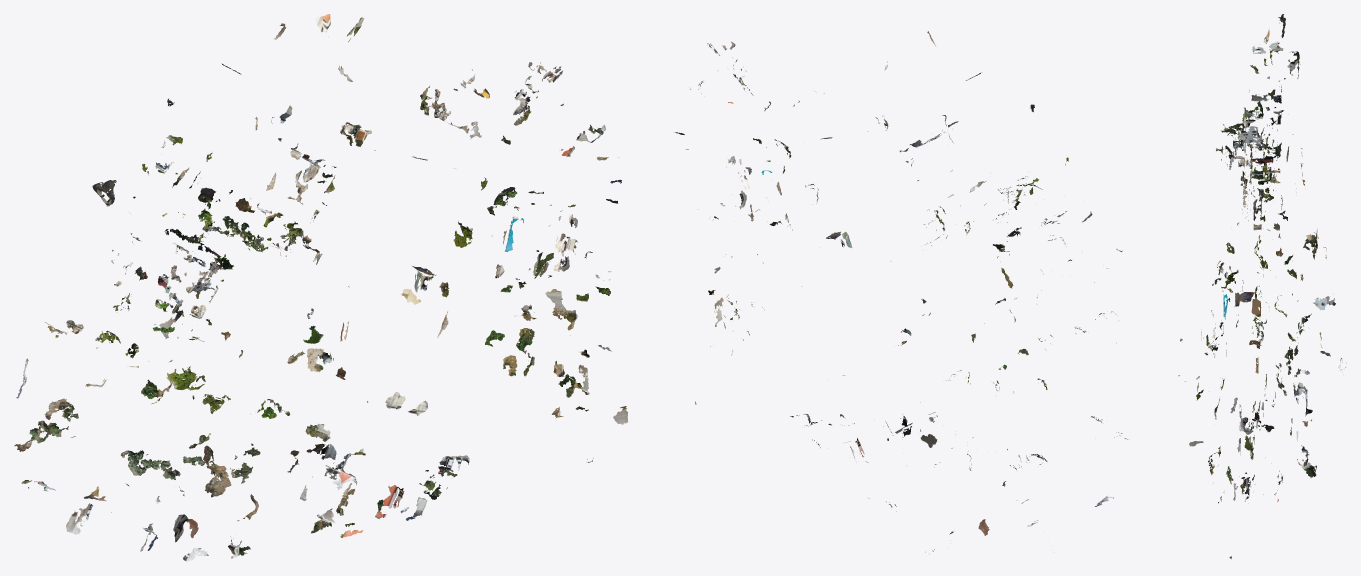
Rendered from tile_5.glb.
3 views of the same model, side by side, from view 1: azimuth 30°, elevation 25°; view 2: azimuth 150°, elevation 25°; view 3: azimuth 270°, elevation 25° (orthographic). The views are drawn at different scales.
Size of the model in its own units: 176 by 161 by 52.15.
Materials: 1 (1 with a texture image).
